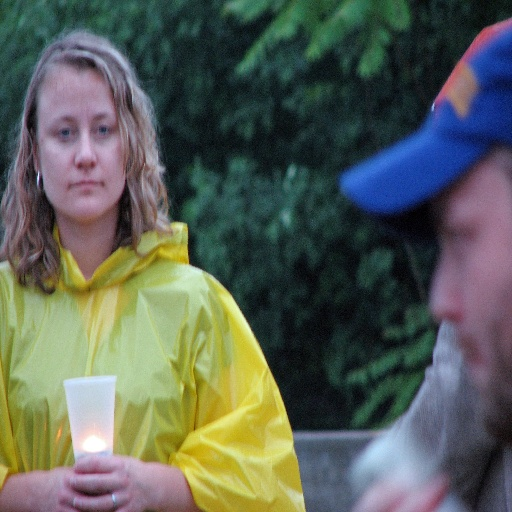hand: (68, 454, 162, 511), (352, 474, 453, 511)
